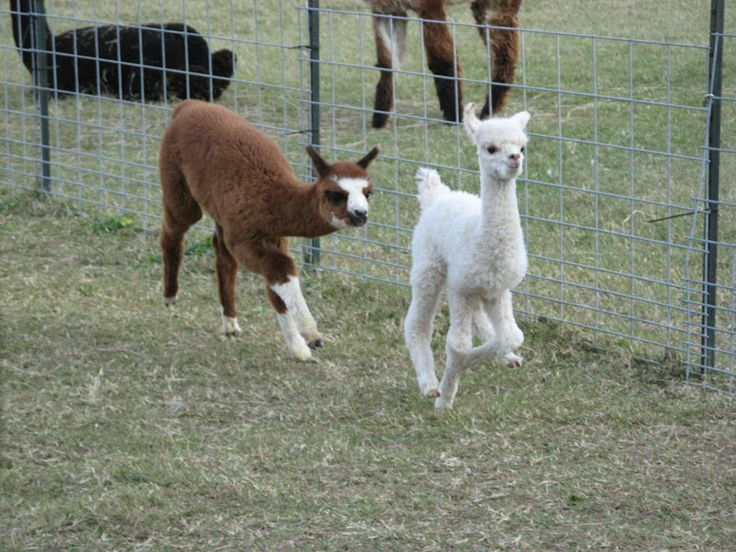alpaca: (158, 98, 381, 366), (402, 100, 530, 412)
